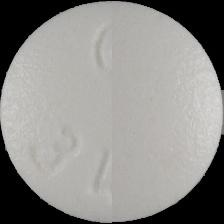61786-605: (0, 0, 224, 224)
